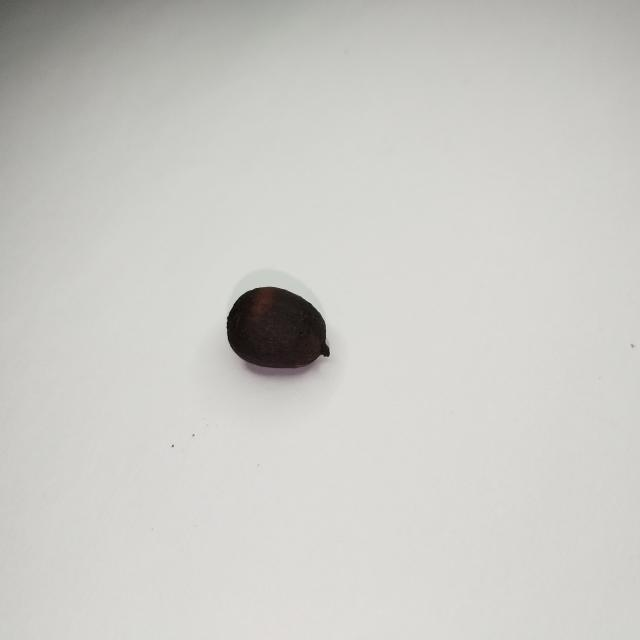Danado: (227, 287, 330, 370)
